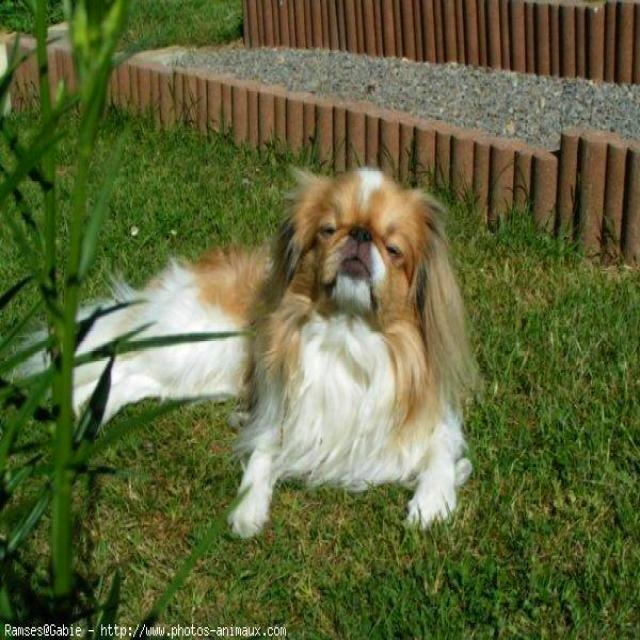husky: (2, 162, 484, 542)
